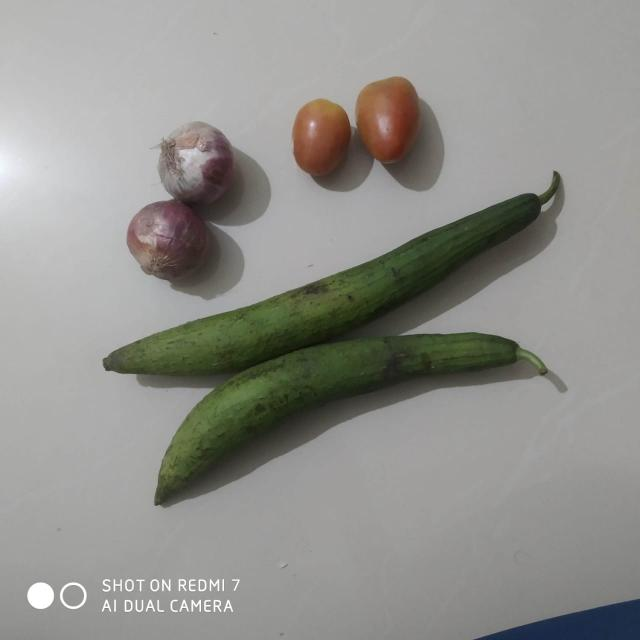Organik: (57, 297, 575, 513), (152, 121, 242, 204), (351, 72, 428, 166), (125, 199, 209, 285), (288, 86, 354, 178)
